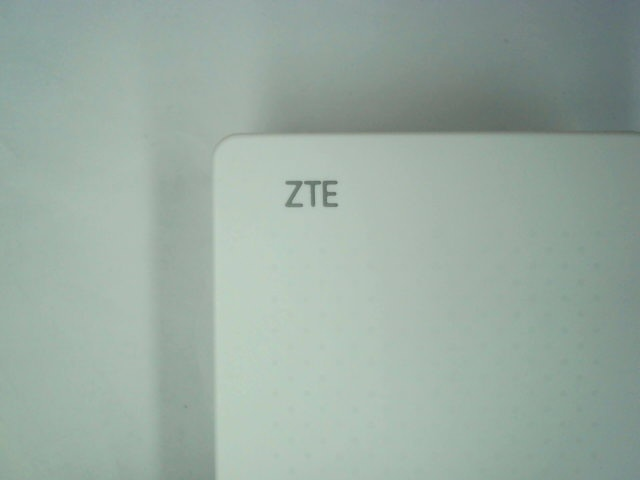AN_ZTE: (282, 172, 345, 215)
